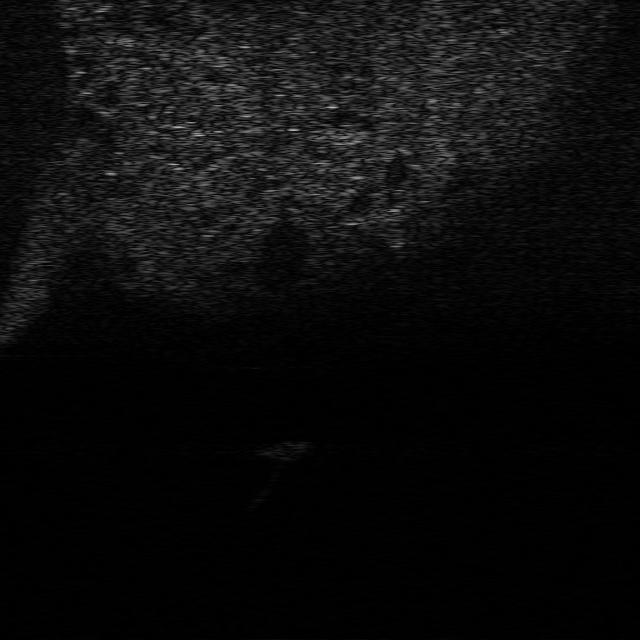cube: (252, 433, 314, 466)
